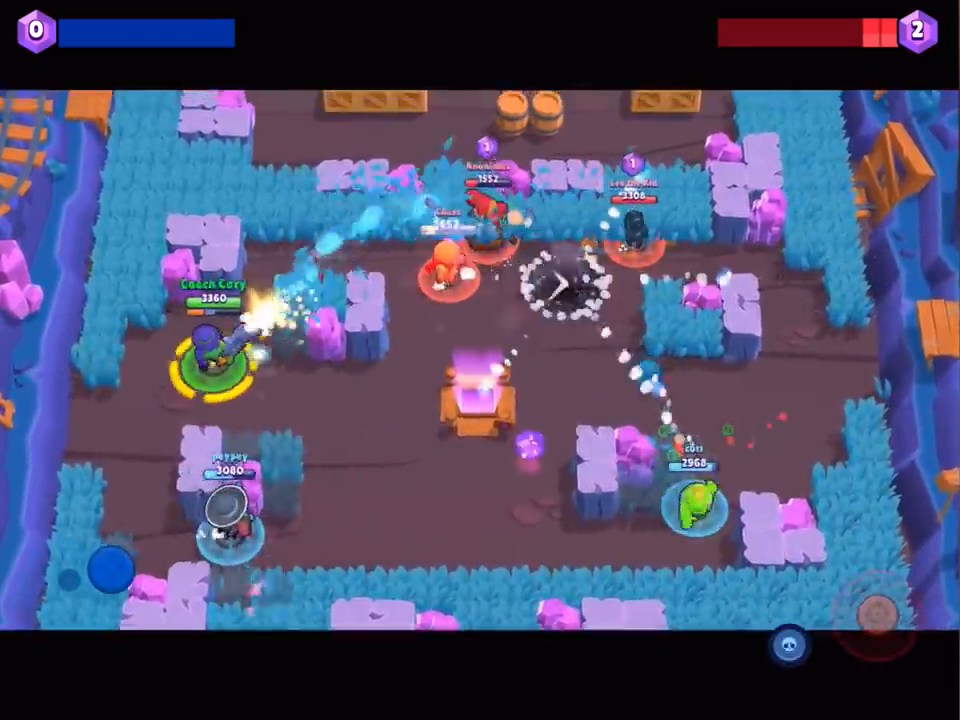move_stick: (88, 540, 136, 596)
red: (456, 167, 535, 271), (595, 181, 676, 270), (420, 229, 486, 310)
